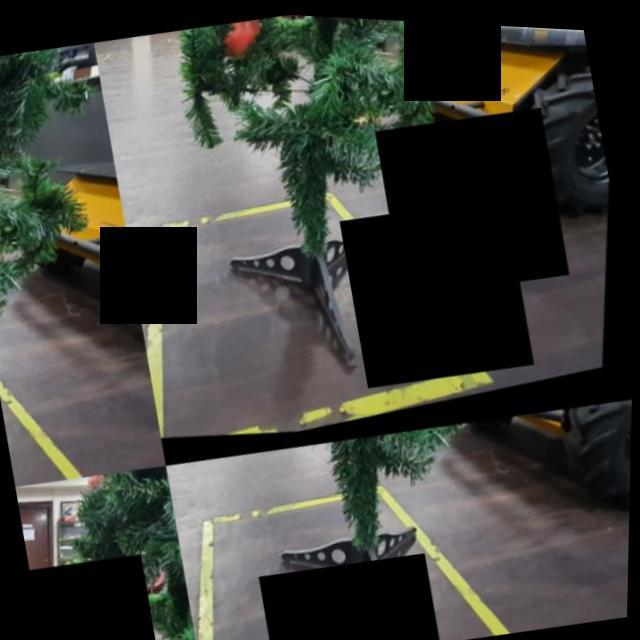Tree: (89, 5, 543, 407), (226, 387, 623, 640), (1, 44, 132, 422), (14, 445, 210, 640)
